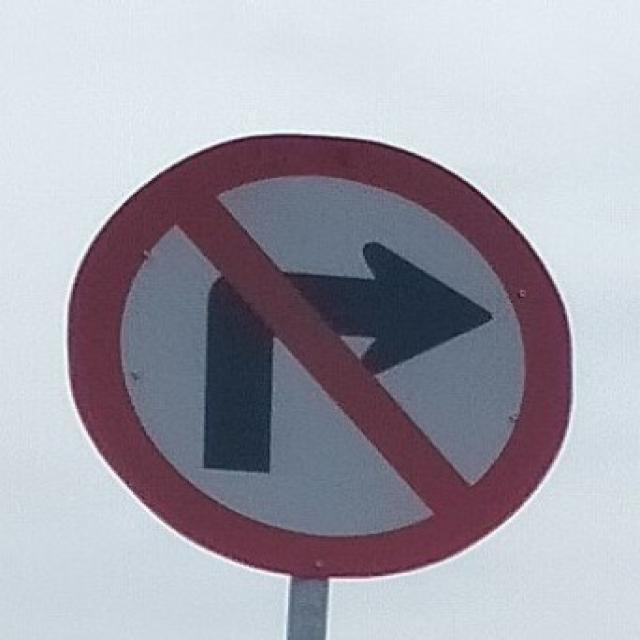Dilarang Belok Kanan: (76, 130, 584, 583)
